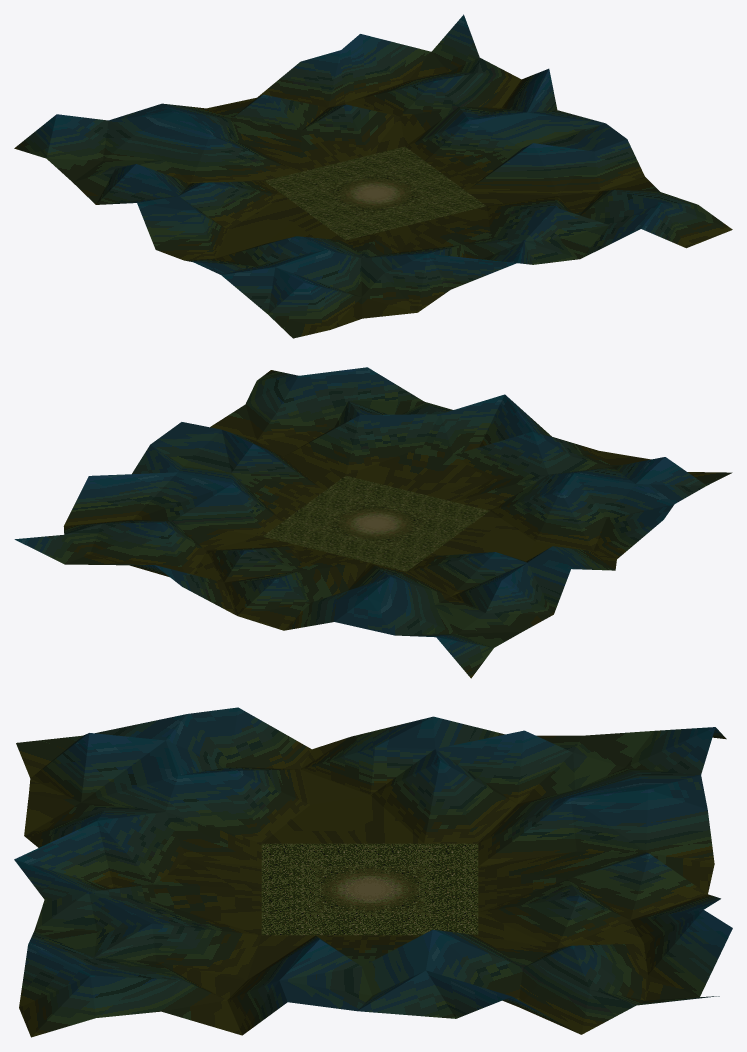
Rendered from field.obj.
3 renders of one model, top to bottom at view 1: azimuth 30°, elevation 25°; view 2: azimuth 150°, elevation 25°; view 3: azimuth 270°, elevation 25°, orthographic. The views are drawn at different scales.
Parts seen in each view (by area): view 1: Nemu_32F6789_0_028, Nemu_76BACB49_0_030, Nemu_35BF7BB8_0_029; view 2: Nemu_32F6789_0_028, Nemu_76BACB49_0_030, Nemu_35BF7BB8_0_029; view 3: Nemu_32F6789_0_028, Nemu_76BACB49_0_030, Nemu_35BF7BB8_0_029.
Boxes of the visible parts, x1=… form: Nemu_32F6789_0_028: x1=14, y1=14, x2=732, y2=338; Nemu_76BACB49_0_030: x1=264, y1=146, x2=486, y2=240; Nemu_35BF7BB8_0_029: x1=320, y1=170, x2=430, y2=216; Nemu_32F6789_0_028: x1=14, y1=367, x2=732, y2=678; Nemu_76BACB49_0_030: x1=263, y1=475, x2=489, y2=571; Nemu_35BF7BB8_0_029: x1=319, y1=499, x2=432, y2=547; Nemu_32F6789_0_028: x1=14, y1=707, x2=732, y2=1037; Nemu_76BACB49_0_030: x1=261, y1=843, x2=478, y2=935; Nemu_35BF7BB8_0_029: x1=316, y1=866, x2=423, y2=912.
Size of the model in its own units: 27.76 by 1.95 by 28.16.
Materials: 3 (3 with a texture image).
